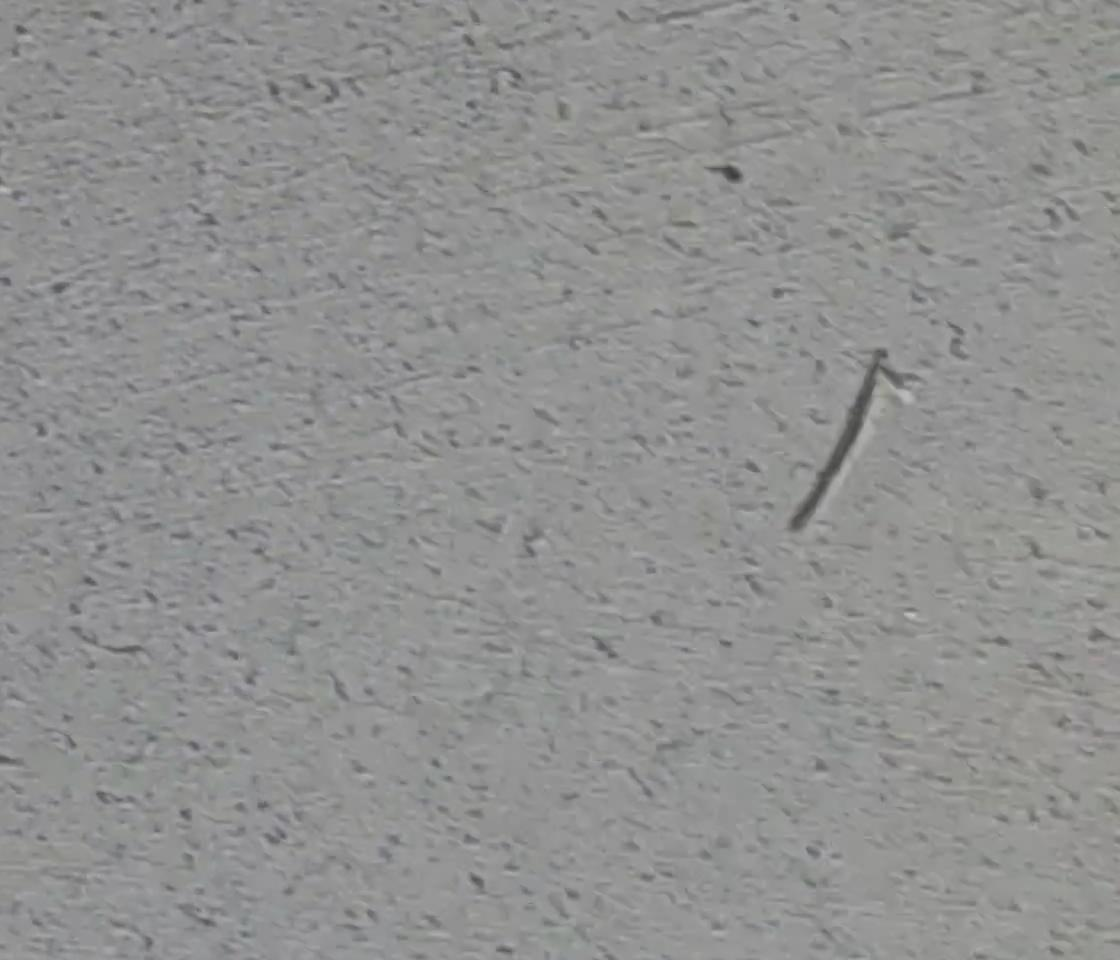scratch: (786, 340, 901, 536)
